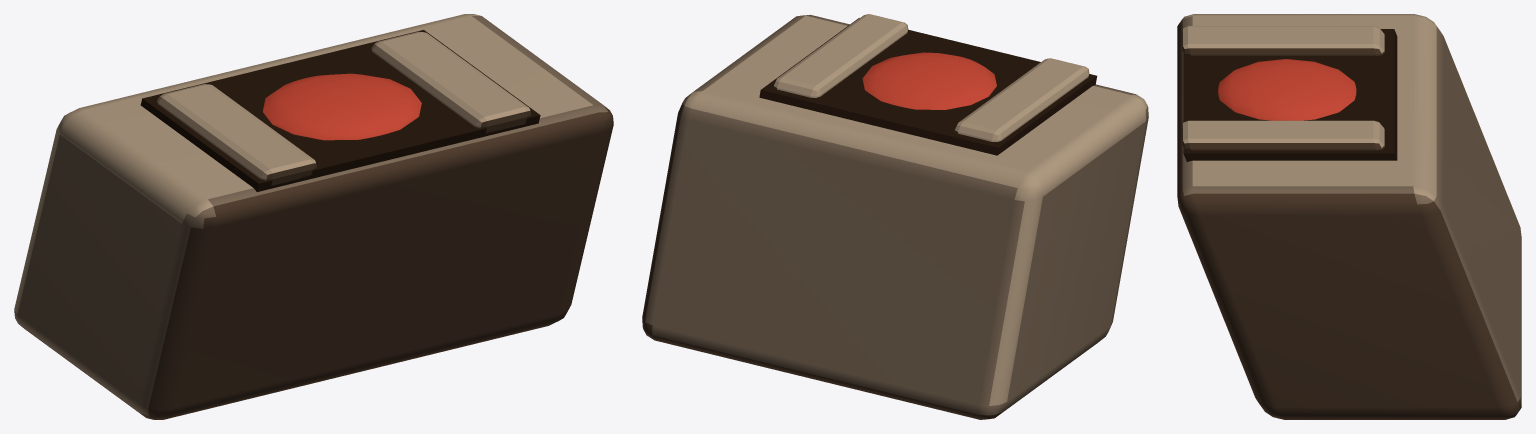
Rendered from rig_hatch_199.glb.
The picture shows the model from 3 angles, left to right: view 1: azimuth 30°, elevation 25°; view 2: azimuth 150°, elevation 25°; view 3: azimuth 270°, elevation 25°; orthographic projection. The views are drawn at different scales.
Visible parts, largest first — view 1: rig_hatch_199; view 2: rig_hatch_199; view 3: rig_hatch_199.
Boxes of the visible parts, x1,y1,x2,y2 form: rig_hatch_199: [14, 14, 613, 419]; rig_hatch_199: [642, 14, 1148, 419]; rig_hatch_199: [1177, 14, 1521, 419].
Size of the model in its own units: 14 by 8.7 by 10.77.
